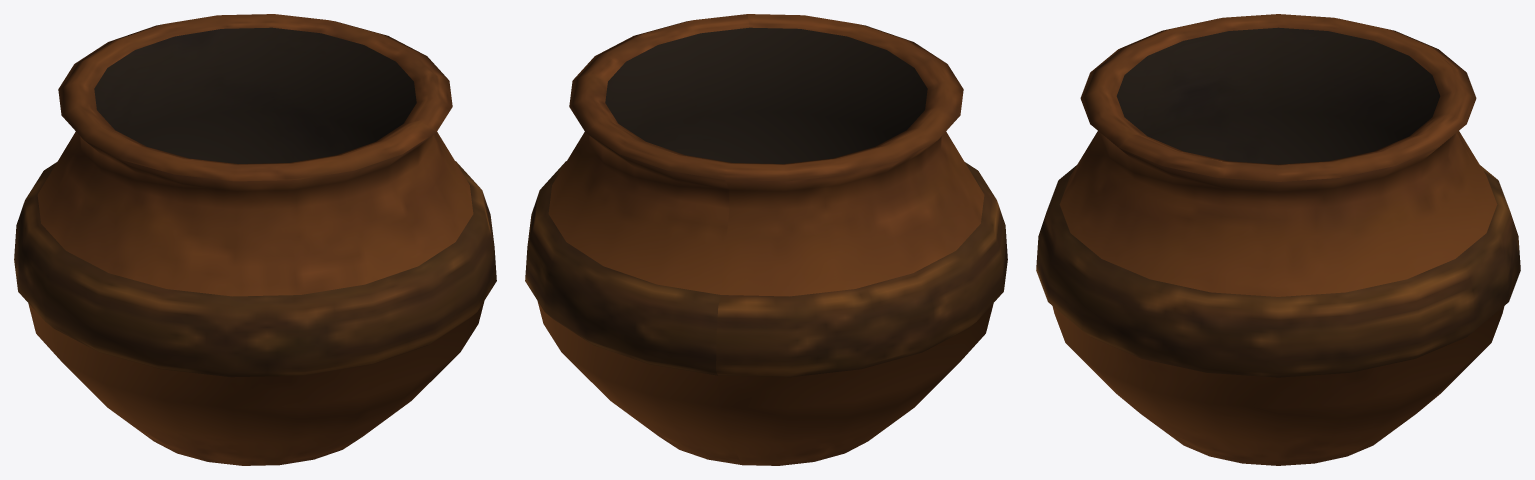
Rendered from Vase_2.glb.
3 renders of one model, left to right at view 1: azimuth 30°, elevation 25°; view 2: azimuth 150°, elevation 25°; view 3: azimuth 270°, elevation 25°, orthographic.
Parts seen in each view (by area): view 1: Vase_2; view 2: Vase_2; view 3: Vase_2.
Boxes of the visible parts, x1,y1,x2,y2 form: Vase_2: (14, 14, 496, 465); Vase_2: (525, 14, 1007, 465); Vase_2: (1036, 14, 1520, 465).
Size of the model in its own units: 0.6947 by 0.5163 by 0.6947.
1 material, 1 textured.
